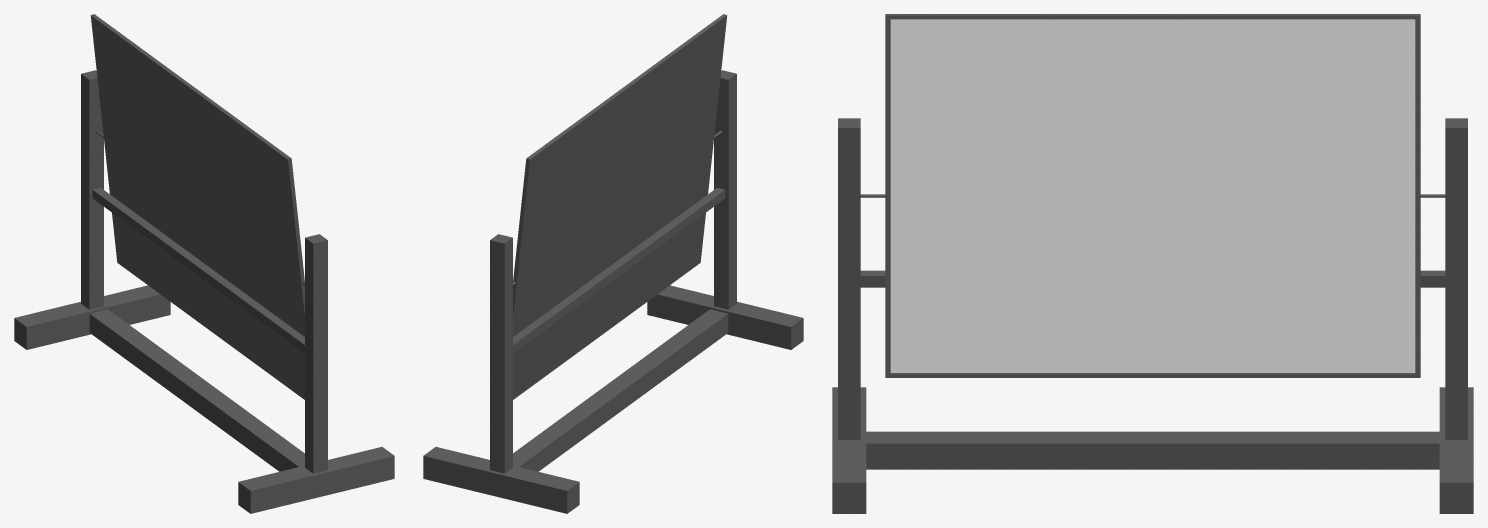
File: whiteboard.glb
The picture shows the model from 3 angles, left to right: view 1: azimuth 30°, elevation 25°; view 2: azimuth 150°, elevation 25°; view 3: azimuth 270°, elevation 25°; orthographic projection. The views are drawn at different scales.
Parts seen in each view (by area): view 1: board, whiteboard; view 2: board, whiteboard; view 3: board, whiteboard.
Part boxes in pixels (x1,y1,x2,y2): board: (90,14,304,399); whiteboard: (14,70,394,513); board: (513,14,727,399); whiteboard: (423,70,803,513); board: (885,14,1420,377); whiteboard: (832,118,1473,513).
Size of the model in its own units: 0.885 by 1.92 by 2.52.
2 materials, 2 textured.
